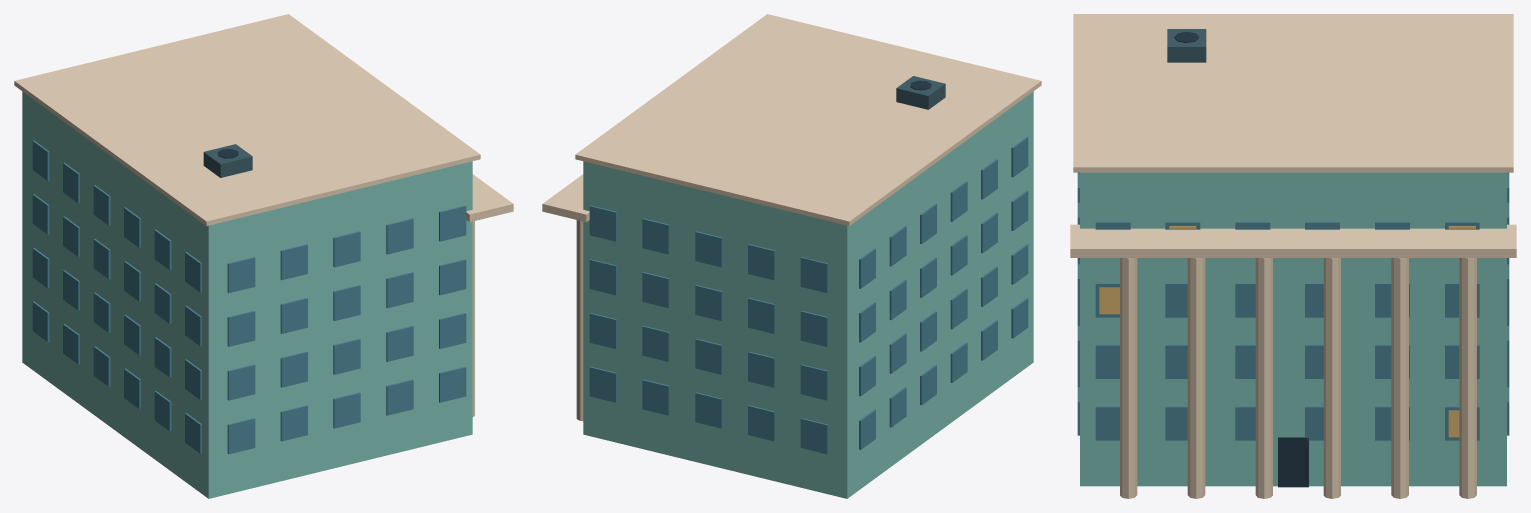
Rendered from building-civic.obj.
3 renders of one model, left to right at view 1: azimuth 30°, elevation 25°; view 2: azimuth 150°, elevation 25°; view 3: azimuth 270°, elevation 25°, orthographic. The views are drawn at different scales.
Visible parts, largest first — view 1: building-civic; view 2: building-civic; view 3: building-civic.
Boxes of the visible parts, x1=… form: building-civic: x1=14, y1=14, x2=513, y2=498; building-civic: x1=542, y1=14, x2=1041, y2=498; building-civic: x1=1070, y1=14, x2=1516, y2=498.
Bounding box in the file's own units: 20.85 × 19.25 × 23.
